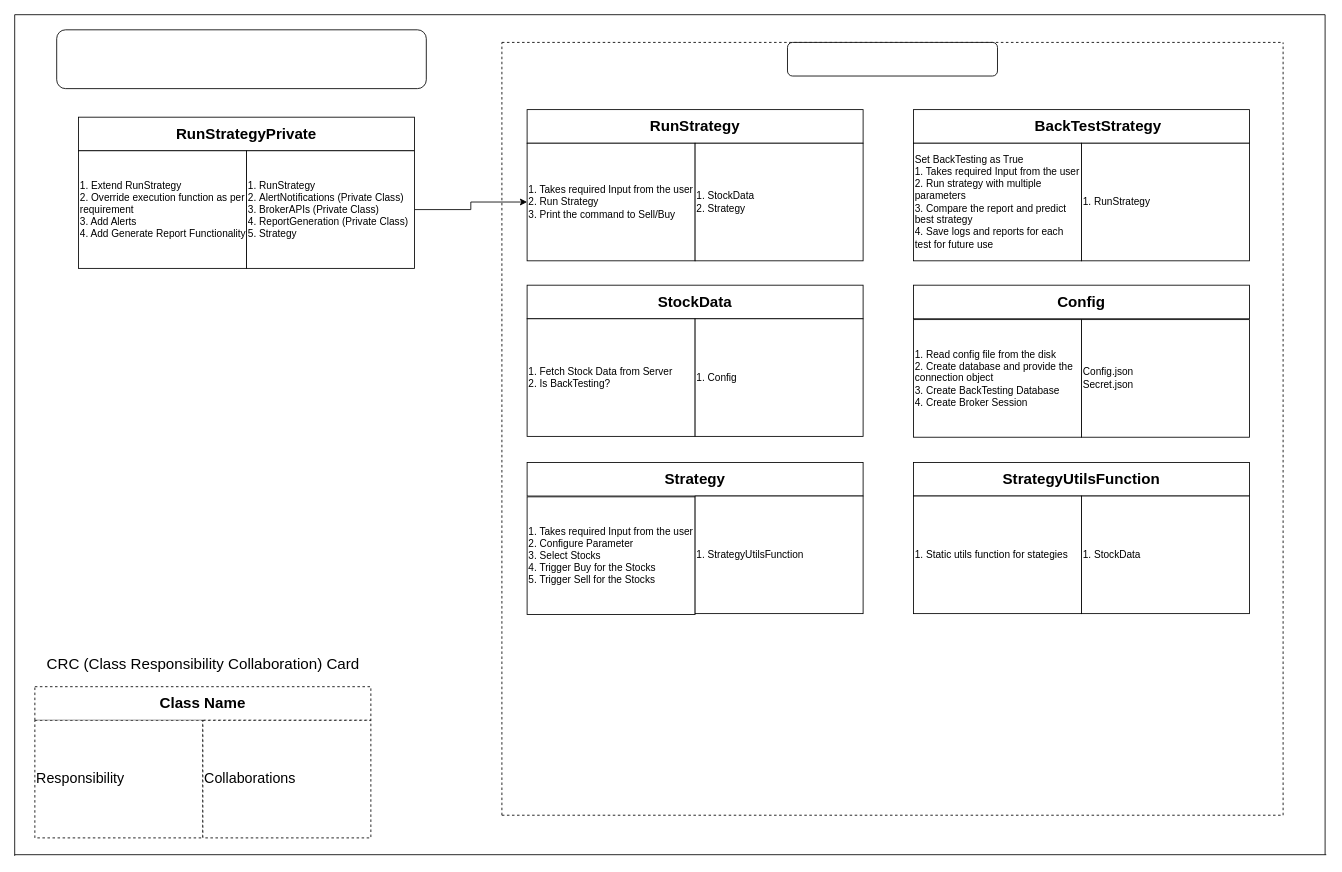
Some shapes in this 1342 by 872 pixel diagram are drawn without their labels. Each missing label, with the centre of its shape:
"AlgoTradingBackTesting" goes at (892,59).
"AlgoTradingPrivate" goes at (241,59).
